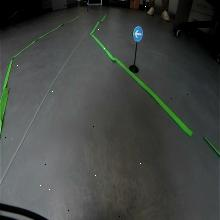left: (133, 26, 144, 42)
